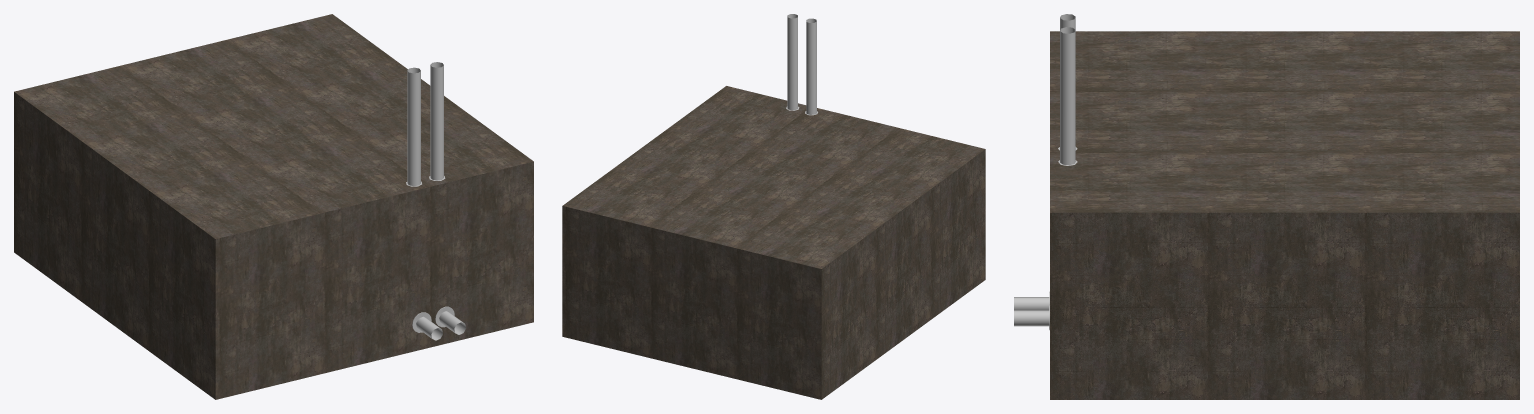
Rendered from Stairwell01.fbx.
3 views of the same model, side by side, from view 1: azimuth 30°, elevation 25°; view 2: azimuth 150°, elevation 25°; view 3: azimuth 270°, elevation 25° (orthographic). The views are drawn at different scales.
Visible parts, largest first — view 1: LODGroup_1_MainMesh_1_SubMesh_2, LODGroup_1_MainMesh_1_SubMesh_1; view 2: LODGroup_1_MainMesh_1_SubMesh_2, LODGroup_1_MainMesh_1_SubMesh_1; view 3: LODGroup_1_MainMesh_1_SubMesh_2, LODGroup_1_MainMesh_1_SubMesh_1.
Boxes of the visible parts, x1=… form: LODGroup_1_MainMesh_1_SubMesh_2: x1=14, y1=14, x2=533, y2=399; LODGroup_1_MainMesh_1_SubMesh_1: x1=406, y1=62, x2=465, y2=340; LODGroup_1_MainMesh_1_SubMesh_2: x1=562, y1=86, x2=985, y2=399; LODGroup_1_MainMesh_1_SubMesh_1: x1=786, y1=14, x2=817, y2=115; LODGroup_1_MainMesh_1_SubMesh_2: x1=1050, y1=31, x2=1519, y2=399; LODGroup_1_MainMesh_1_SubMesh_1: x1=1014, y1=14, x2=1077, y2=330.
Bounding box in the file's own units: 1036 × 851 × 1223.
